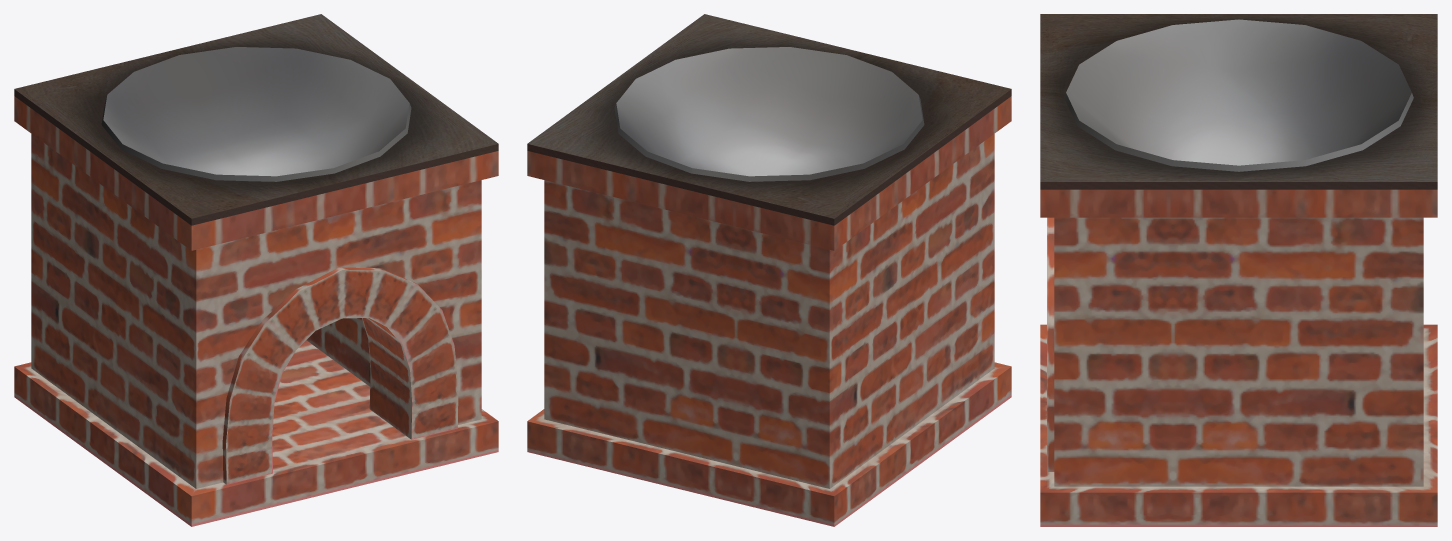
File: pot.fbx
3 views of the same model, side by side, from view 1: azimuth 30°, elevation 25°; view 2: azimuth 150°, elevation 25°; view 3: azimuth 270°, elevation 25° (orthographic). The views are drawn at different scales.
Parts seen in each view (by area): view 1: Red_stove, pot; view 2: Red_stove, pot; view 3: Red_stove, pot.
Part boxes in pixels (x1=…): Red_stove: x1=14, y1=14, x2=498, y2=526; pot: x1=101, y1=47, x2=411, y2=181; Red_stove: x1=527, y1=14, x2=1011, y2=526; pot: x1=614, y1=47, x2=924, y2=181; Red_stove: x1=1040, y1=14, x2=1437, y2=526; pot: x1=1064, y1=19, x2=1413, y2=171.
Bounding box in the file's own units: 8.05 × 8.05 × 7.84.
